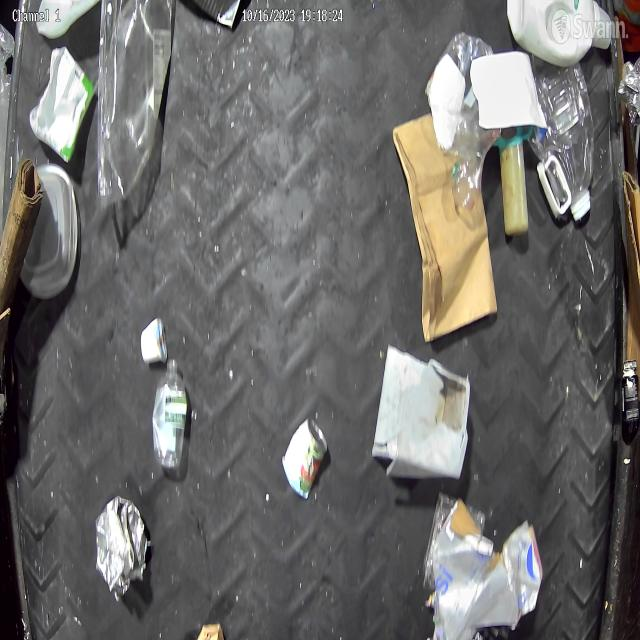can: (28, 44, 96, 168), (94, 493, 149, 601), (280, 411, 330, 498)
plastic_bottle: (97, 0, 174, 208), (524, 53, 597, 220), (152, 356, 189, 474)
